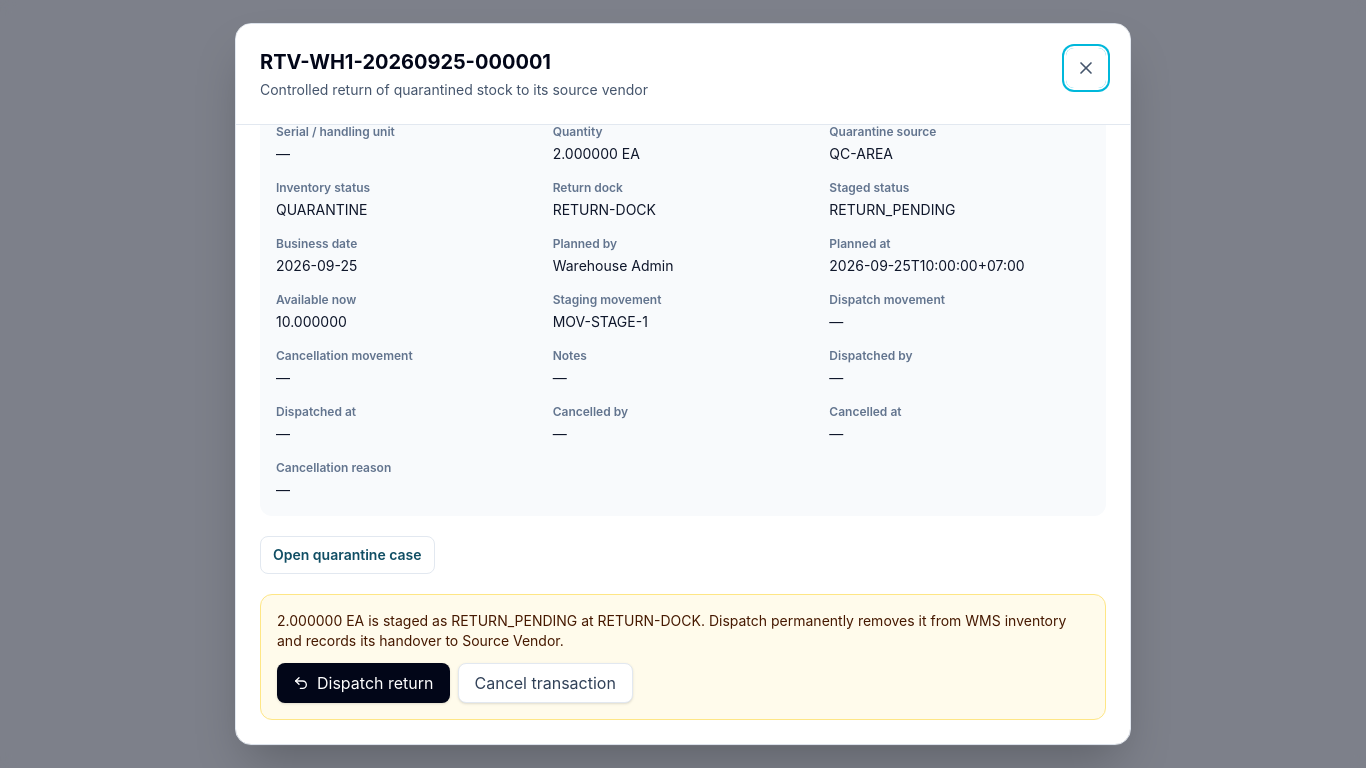
Test: requires and trims a cancellation reason
(page scrolled)
Click the button "Cancel transaction": (545, 683) [458,663,633,703]
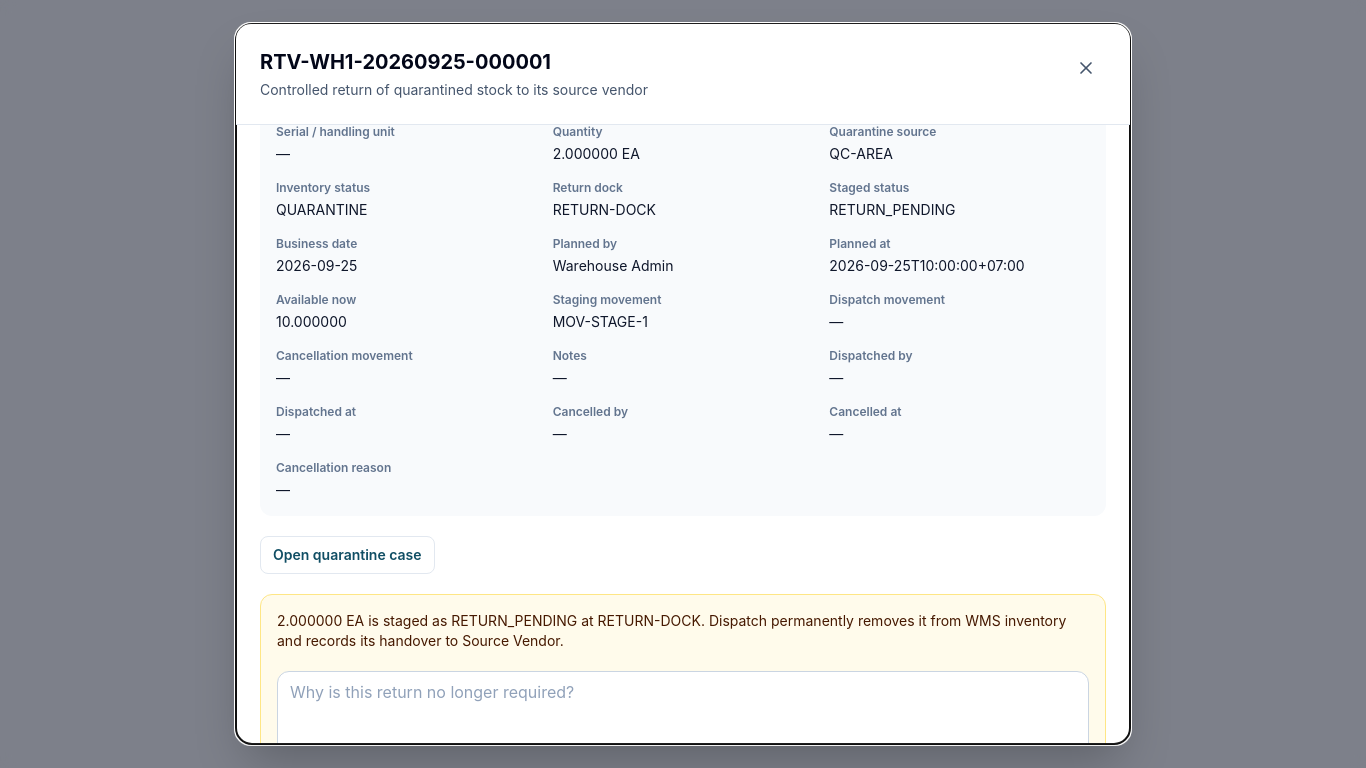
In the text box named "Cancellation reason": (683, 719) [277,671,1089,767], type " Vendor rejected request "
(page scrolled)
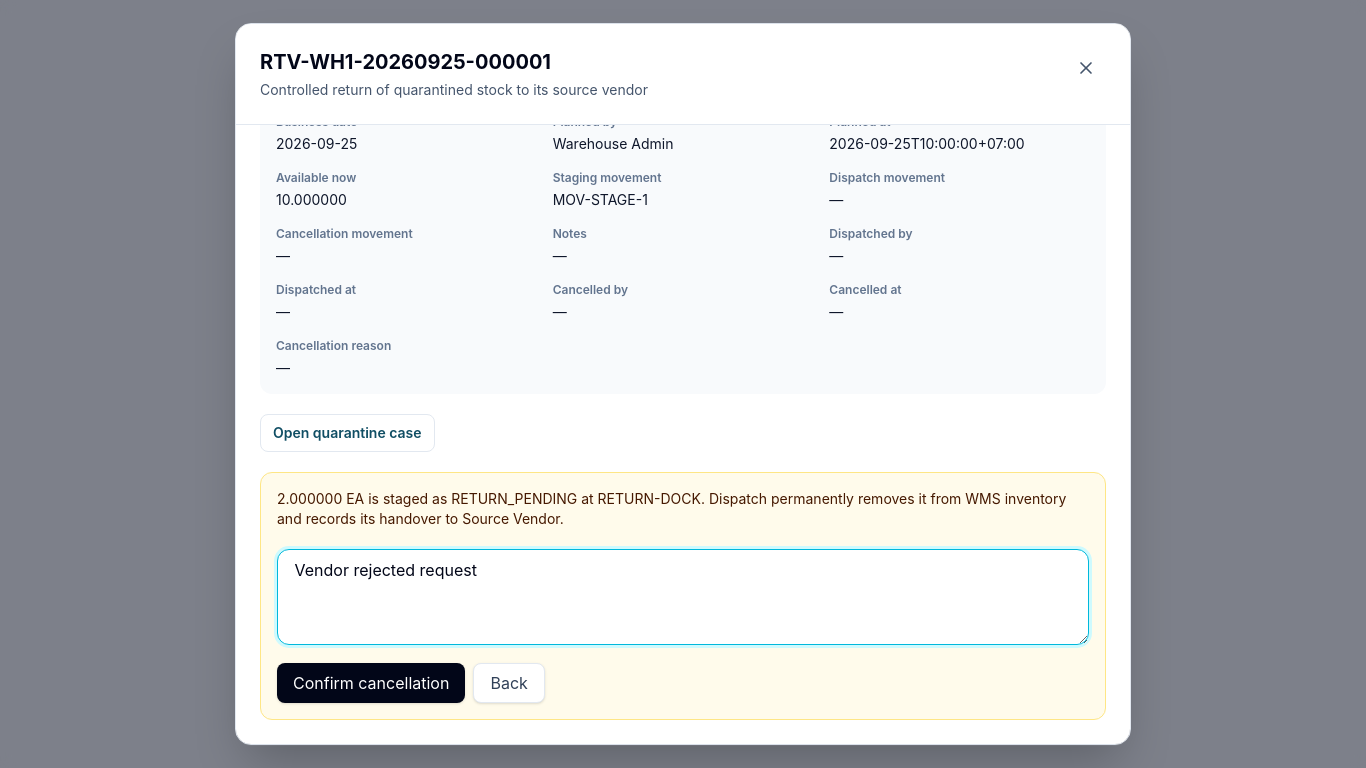
Click the button "Confirm cancellation": (371, 683) [277,663,465,703]
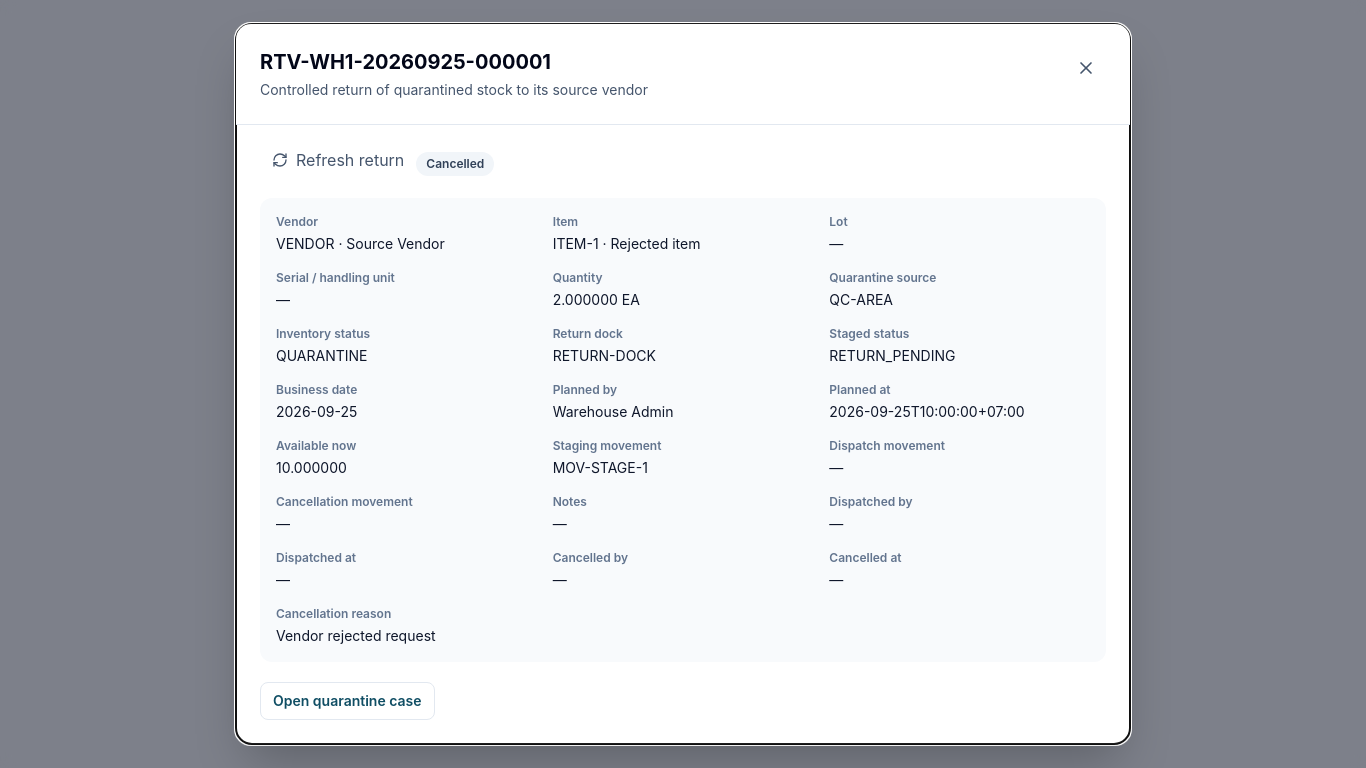
Now the text "Cancelled" is shown, box [416,152,494,176]
